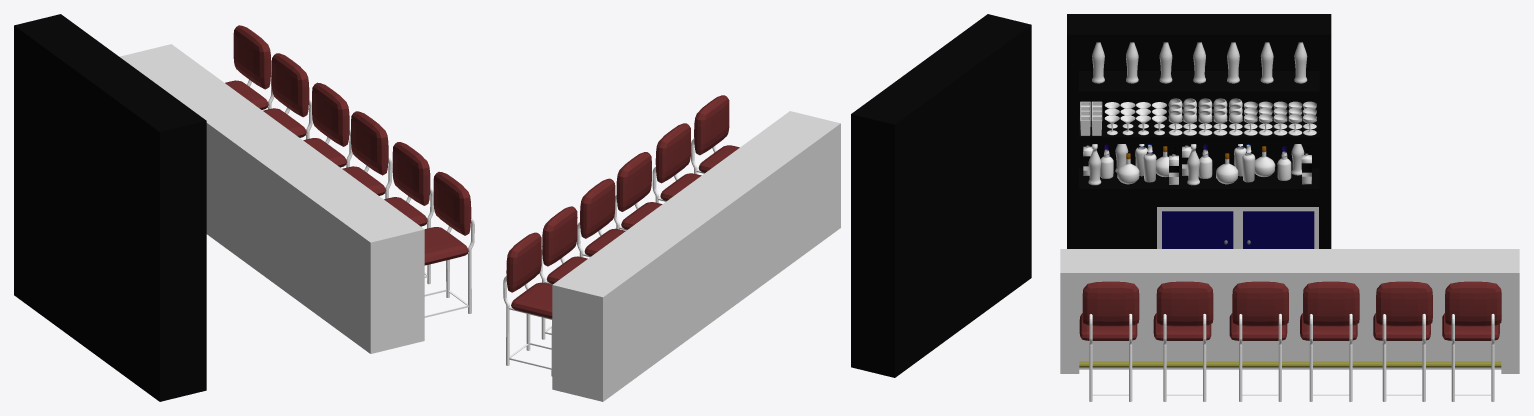
Rendered from Bar.fbx.
The picture shows the model from 3 angles, left to right: view 1: azimuth 30°, elevation 25°; view 2: azimuth 150°, elevation 25°; view 3: azimuth 270°, elevation 25°; orthographic projection. The views are drawn at different scales.
Parts seen in each view (by area): view 1: estanteria, barra, silla, silla.001, silla.002, silla.004, silla.003, silla.005; view 2: estanteria, barra, silla.005, silla.004, silla.001, silla, silla.003, silla.002; view 3: estanteria, barra, silla.004, silla, silla.001, silla.002, silla.005, silla.003, botella dec.004, botella dec, botella dec.001, botella dec.002 (+10 smaller).
Part boxes in pixels (x1,y1,x2,y2): estanteria: (14, 14, 206, 401); barra: (119, 44, 424, 353); silla: (424, 171, 474, 317); silla.001: (384, 142, 433, 284); silla.002: (342, 111, 392, 198); silla.004: (263, 53, 312, 139); silla.003: (303, 82, 352, 167); silla.005: (225, 25, 273, 109); estanteria: (851, 14, 1031, 377); barra: (552, 111, 840, 401); silla.005: (503, 232, 552, 376); silla.004: (539, 206, 587, 339); silla.001: (652, 123, 701, 203); silla: (691, 95, 739, 174); silla.003: (577, 178, 625, 257); silla.002: (614, 152, 662, 230); estanteria: (1067, 14, 1331, 248); barra: (1060, 249, 1519, 373); silla.004: (1373, 281, 1432, 401); silla: (1079, 281, 1139, 401); silla.001: (1153, 281, 1213, 401); silla.002: (1229, 281, 1288, 401); silla.005: (1442, 281, 1501, 401); silla.003: (1300, 281, 1359, 401); botella dec.004: (1159, 42, 1172, 83); botella dec: (1294, 42, 1307, 83); botella dec.001: (1260, 42, 1273, 83); botella dec.002: (1227, 42, 1239, 83).
Size of the model in its own units: 508 by 400 by 680.
